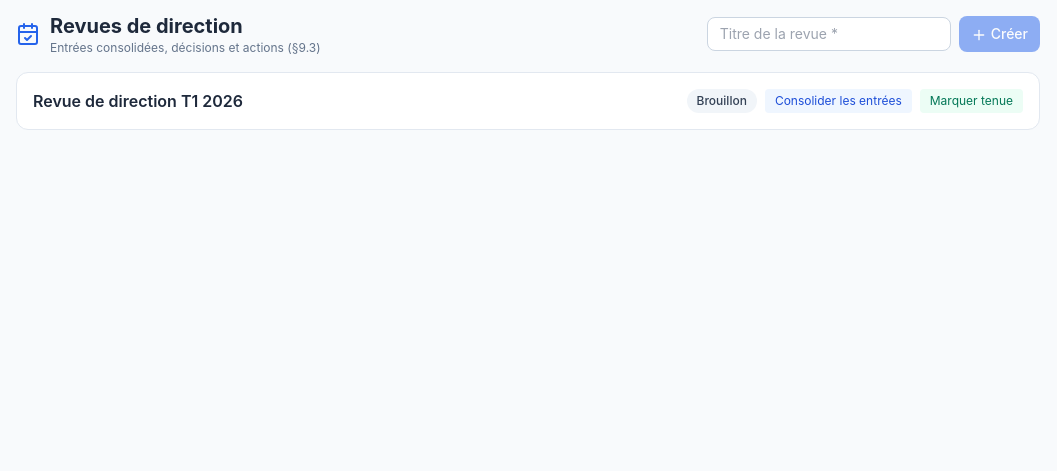
Test: Page Revues de direction (§9.3) › affiche les revues et leurs entrées consolidées
// Le panneau détaillé (entrées consolidées) s'affiche après sélection
Step 1. Click the text "Revue de direction T1 2026" → click(138, 101), box [33, 89, 243, 113]
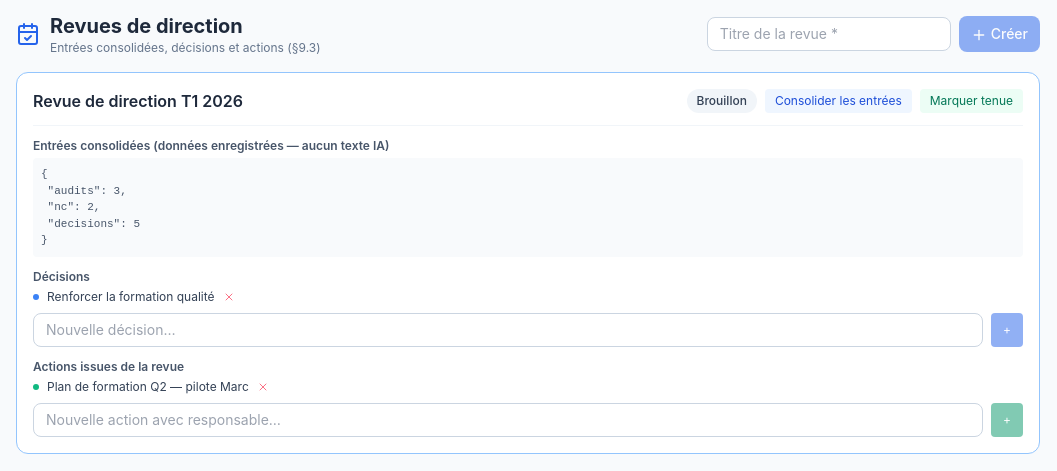
Now the text "{ \"audits\": 3, \"nc\": 2, \"decisions\": 5 }" is shown, box [33, 158, 1023, 256]
